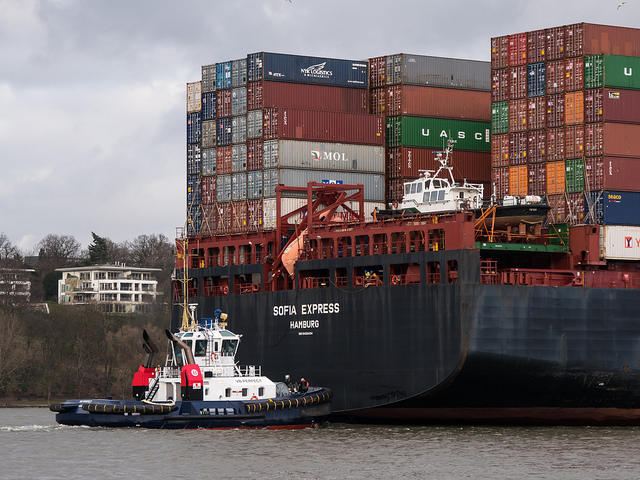container_ship: (186, 31, 631, 432)
tug_boat: (55, 297, 332, 432)
